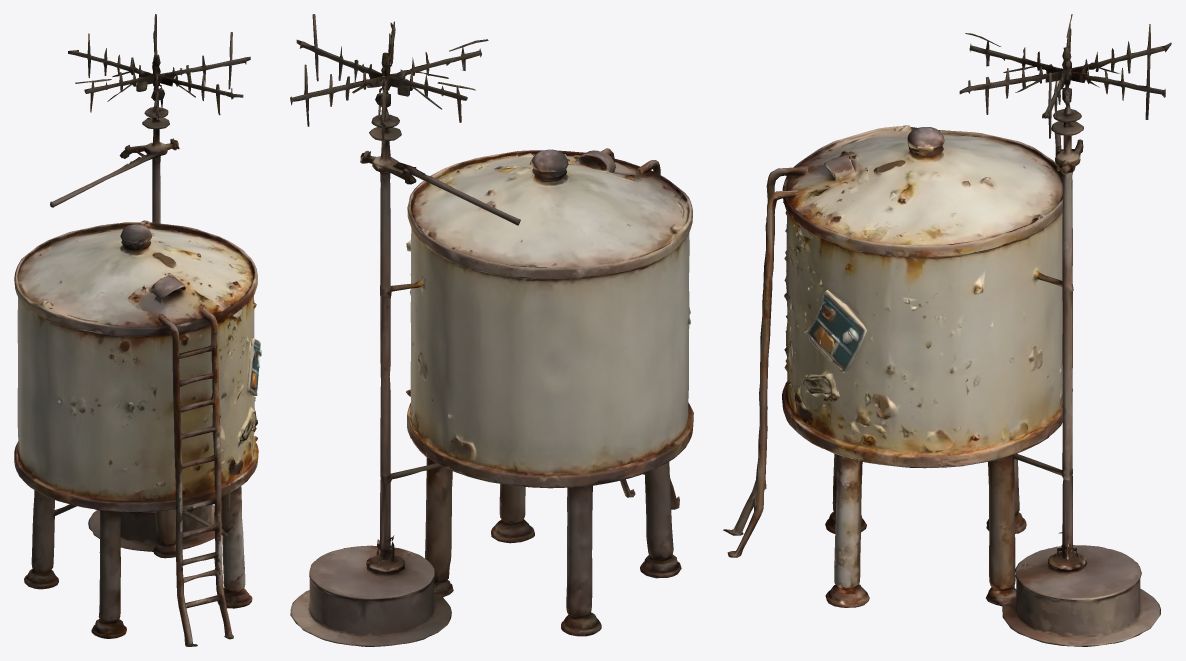
Rendered from water-tank.glb.
3 views of the same model, side by side, from view 1: azimuth 30°, elevation 25°; view 2: azimuth 150°, elevation 25°; view 3: azimuth 270°, elevation 25° (orthographic). The views are drawn at different scales.
Parts seen in each view (by area): view 1: tripo_node_d1f61fdc-0840-48e4-927c-93ffe2f72c4d; view 2: tripo_node_d1f61fdc-0840-48e4-927c-93ffe2f72c4d; view 3: tripo_node_d1f61fdc-0840-48e4-927c-93ffe2f72c4d.
Boxes of the visible parts, x1,y1,x2,y2 form: tripo_node_d1f61fdc-0840-48e4-927c-93ffe2f72c4d: (14, 14, 261, 646); tripo_node_d1f61fdc-0840-48e4-927c-93ffe2f72c4d: (290, 14, 693, 646); tripo_node_d1f61fdc-0840-48e4-927c-93ffe2f72c4d: (723, 14, 1171, 646).
Bounding box in the file's own units: 0.5731 × 0.9801 × 0.6939.
1 material, 1 textured.
